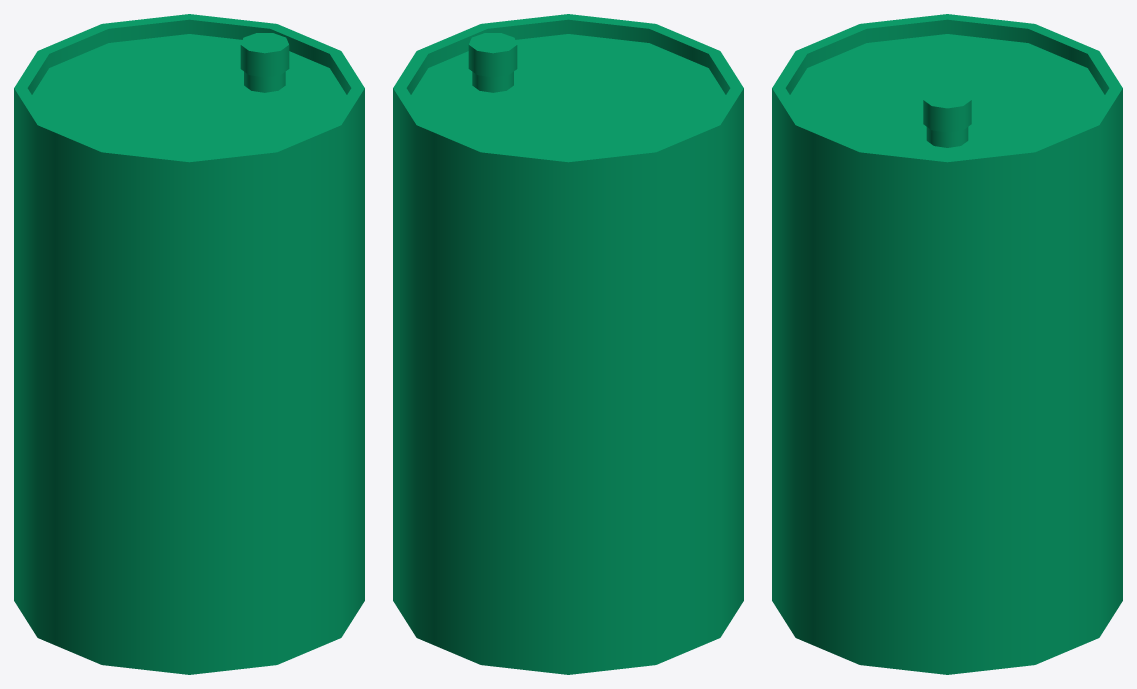
The model's file is barrel.fbx.
The picture shows the model from 3 angles, left to right: view 1: azimuth 30°, elevation 25°; view 2: azimuth 150°, elevation 25°; view 3: azimuth 270°, elevation 25°; orthographic projection.
Parts seen in each view (by area): view 1: baril1; view 2: baril1; view 3: baril1.
Part boxes in pixels (x1=…): baril1: x1=14, y1=14, x2=364, y2=674; baril1: x1=393, y1=14, x2=743, y2=674; baril1: x1=772, y1=14, x2=1122, y2=674.
Bounding box in the file's own units: 2.88 × 4.88 × 2.88.
